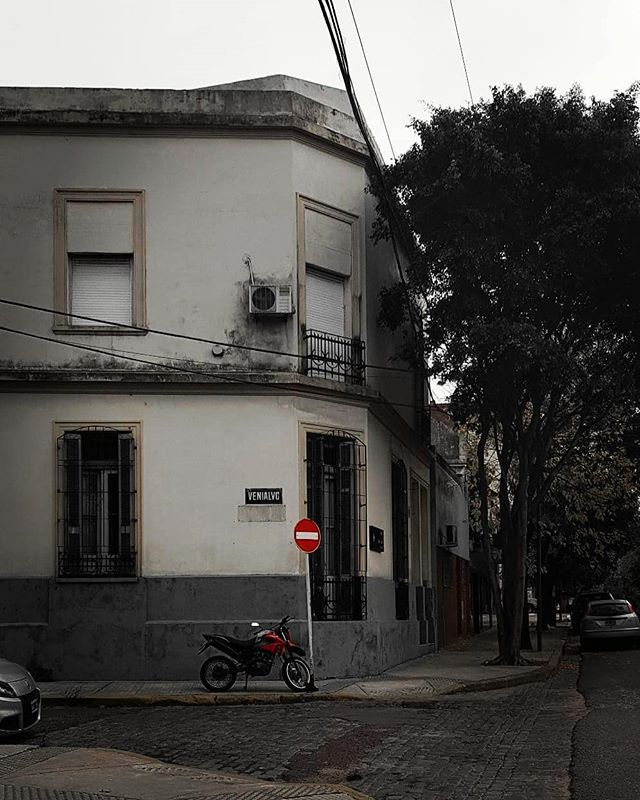building: (1, 100, 460, 675)
motorcycle: (203, 626, 309, 692)
sidewalk: (51, 650, 535, 715)
sign: (282, 507, 323, 558)
street: (87, 672, 640, 800)
tree: (387, 91, 640, 674)
